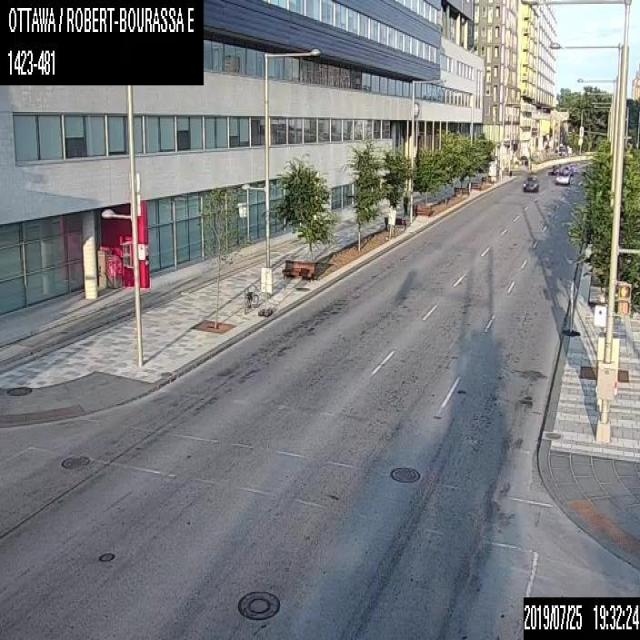pedestrian: (402, 189, 408, 216)
vehicle: (522, 173, 538, 192), (555, 166, 569, 186)
